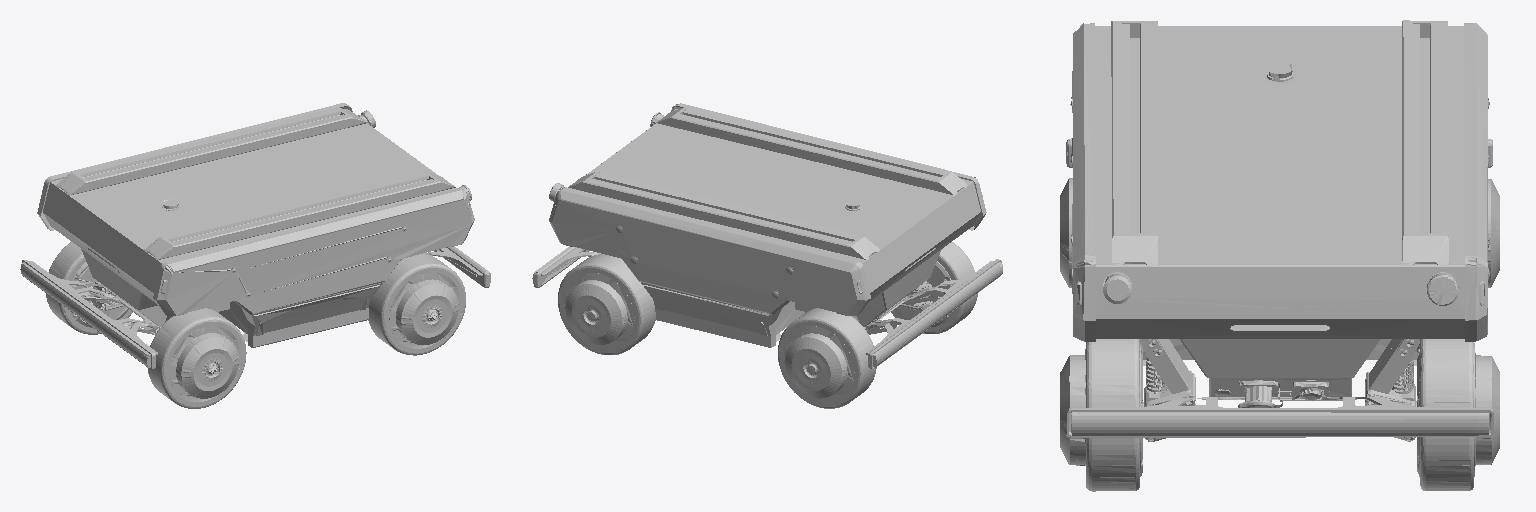
robot.urdf — yhs_chassis_description:
<robot name="yhs_chassis_description">
  <link name="base_link">
    <visual>
      <origin
        xyz="0.28 0.19 0"
        rpy="1.57 0 -1.57" />
      <geometry>
        <mesh
          filename="package://yhs_chassis_description/meshes/FW-mini-pro.STL"/>
      </geometry>
      <material
        name="">
        <color
          rgba="0.8 0.8 0.8 1" />
      </material>
    </visual>
  </link>
</robot>

--- Facts derived from the render (not from the file) ---
The picture shows the robot from 3 angles, left to right: view 1: azimuth 30°, elevation 25°; view 2: azimuth 150°, elevation 25°; view 3: azimuth 270°, elevation 25°; orthographic projection.
Robot: yhs_chassis_description — 1 links, 0 joints (none); root link base_link; default pose: all joints at 0.
Links seen in each view (by area): view 1: base_link; view 2: base_link; view 3: base_link.
Link boxes in pixels (x1,y1,x2,y2): base_link: (20,103,490,408); base_link: (532,103,1002,408); base_link: (1060,20,1499,491).
Bounding box of the posed robot: 0.5644 × 0.3792 × 0.2543 m (x, y, z).
1 mesh visuals loaded from 1 distinct referenced files (1 binary STL).
